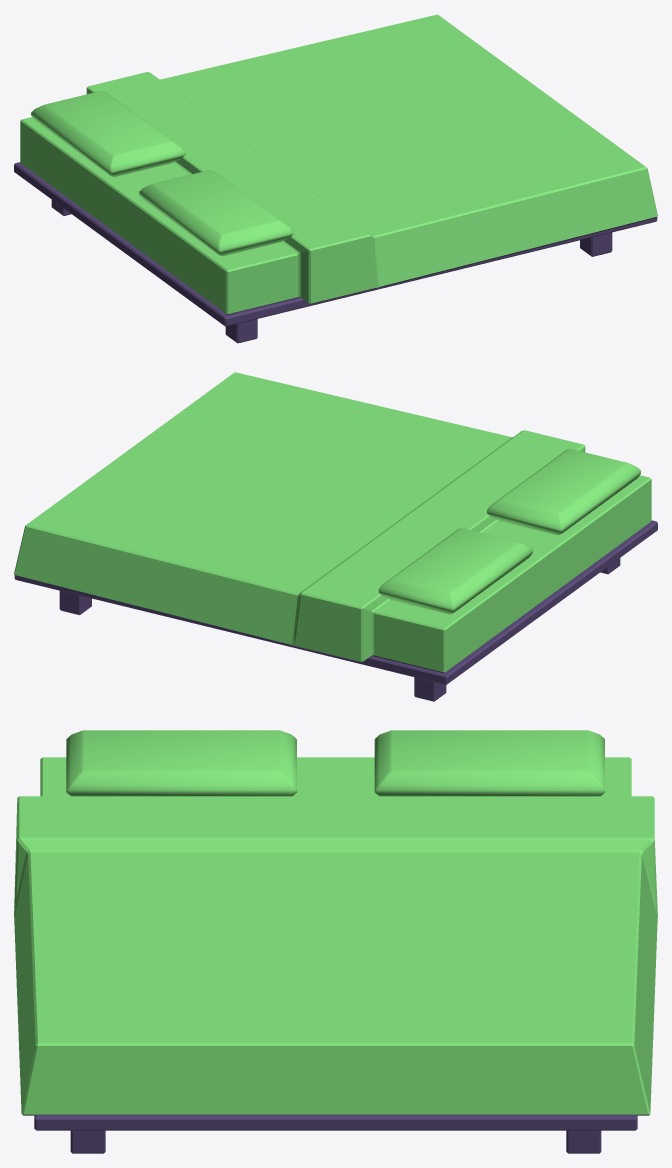
The model's file is Bed.fbx.
The picture shows the model from 3 angles, top to bottom: view 1: azimuth 30°, elevation 25°; view 2: azimuth 150°, elevation 25°; view 3: azimuth 270°, elevation 25°; orthographic projection. The views are drawn at different scales.
Visible parts, largest first — view 1: Bed; view 2: Bed; view 3: Bed.
Boxes of the visible parts, x1,y1,x2,y2 form: Bed: (14,14,657,343); Bed: (14,372,657,701); Bed: (14,730,657,1153).
Bounding box in the file's own units: 3.45 × 0.8331 × 3.12.
